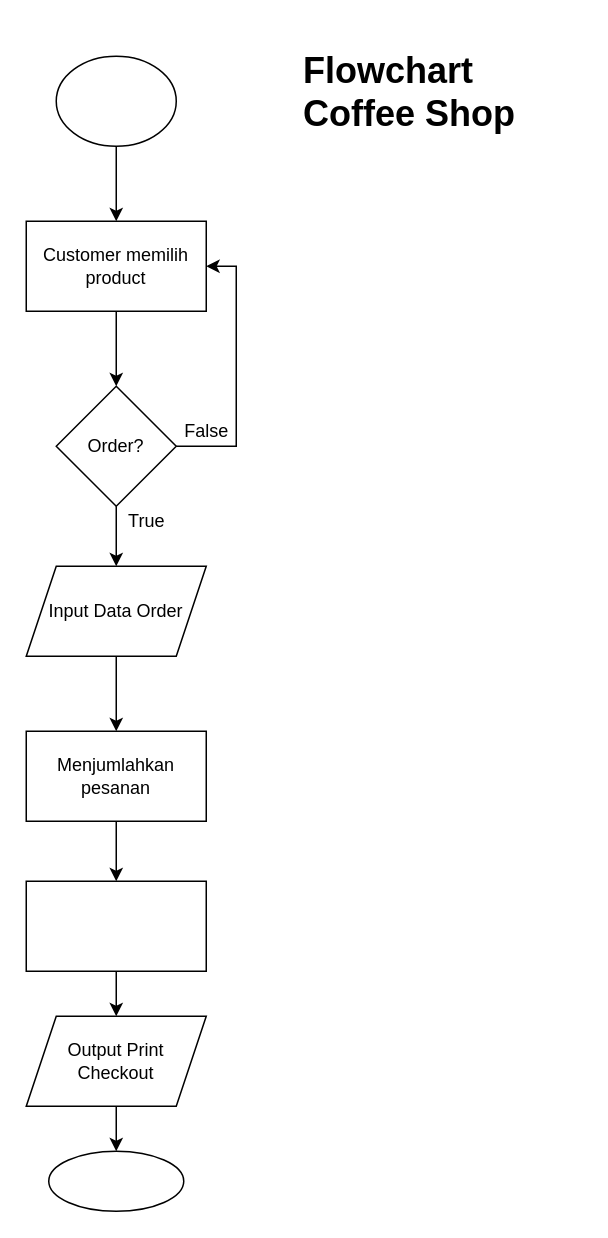
Some shapes in this 608 by 1238 pixel diagram are drawn without their labels. The box of each missing label's shape, as (x1, y1, x2, y2) in pixels:
Customer membayar pesanan: (25, 880, 206, 971)
Mulai: (55, 55, 176, 146)
Selesai: (47, 1150, 184, 1211)
